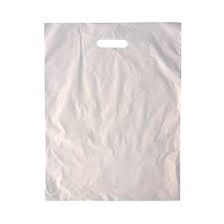plastic_bag: (39, 16, 185, 206)
